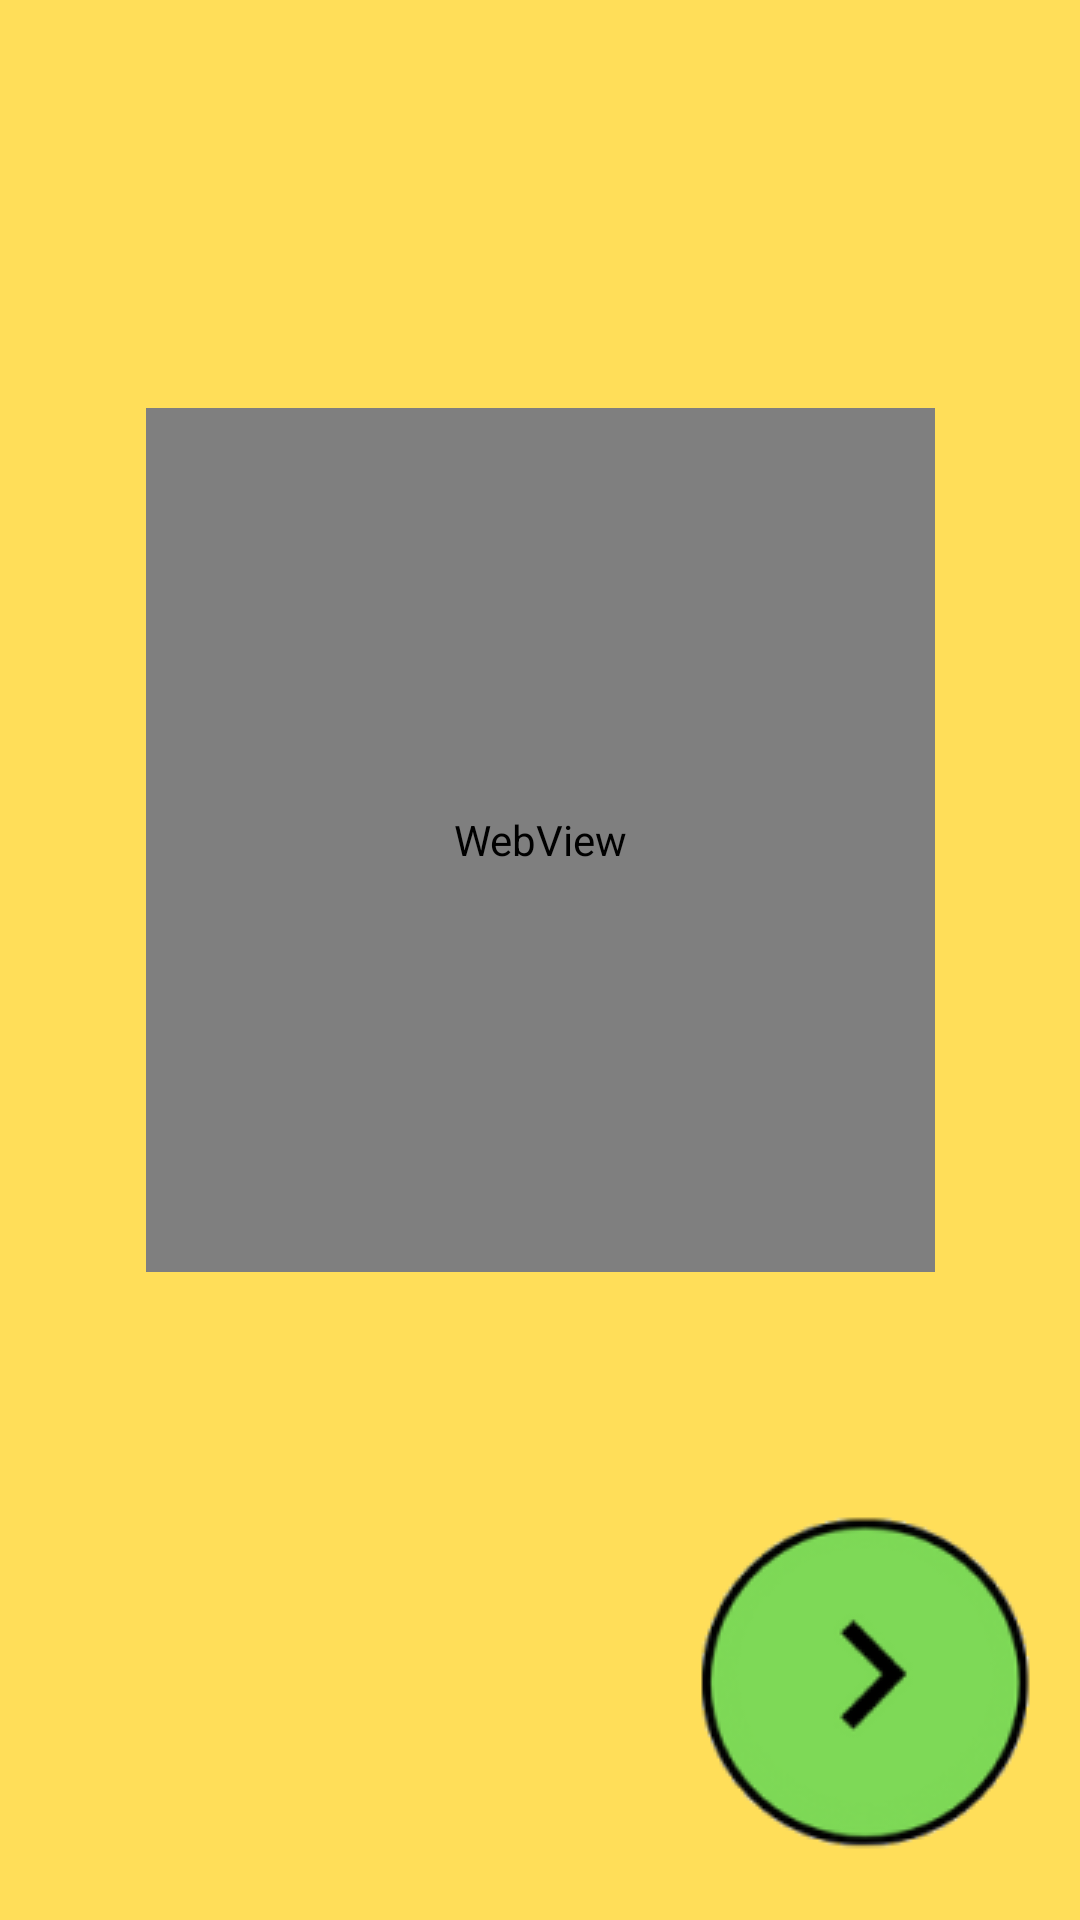

Icon bounding boxes for this 1080x1920 phone screenshot, format (x1, y1, x2, y2):
boton al siguiente punto: (701, 1517, 1030, 1848)
